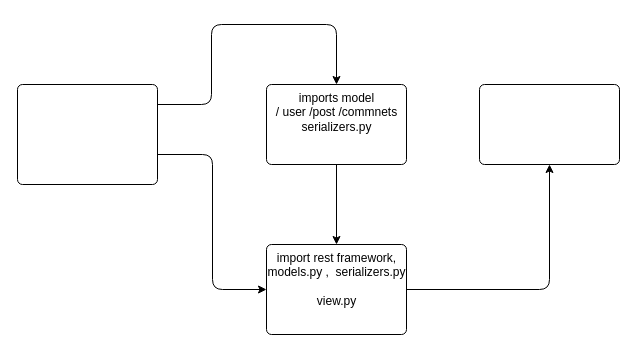
This 637x352 diagram has some shape labels left out. Here are the shapes that lost their labels. From the top down, the centre of each, then its label:
At pixel 87 134: "imports models only models.py class User class Post class Comments".
At pixel 549 124: "urls.py path (user/) path (user/create) path (post/) path (post/create)".
